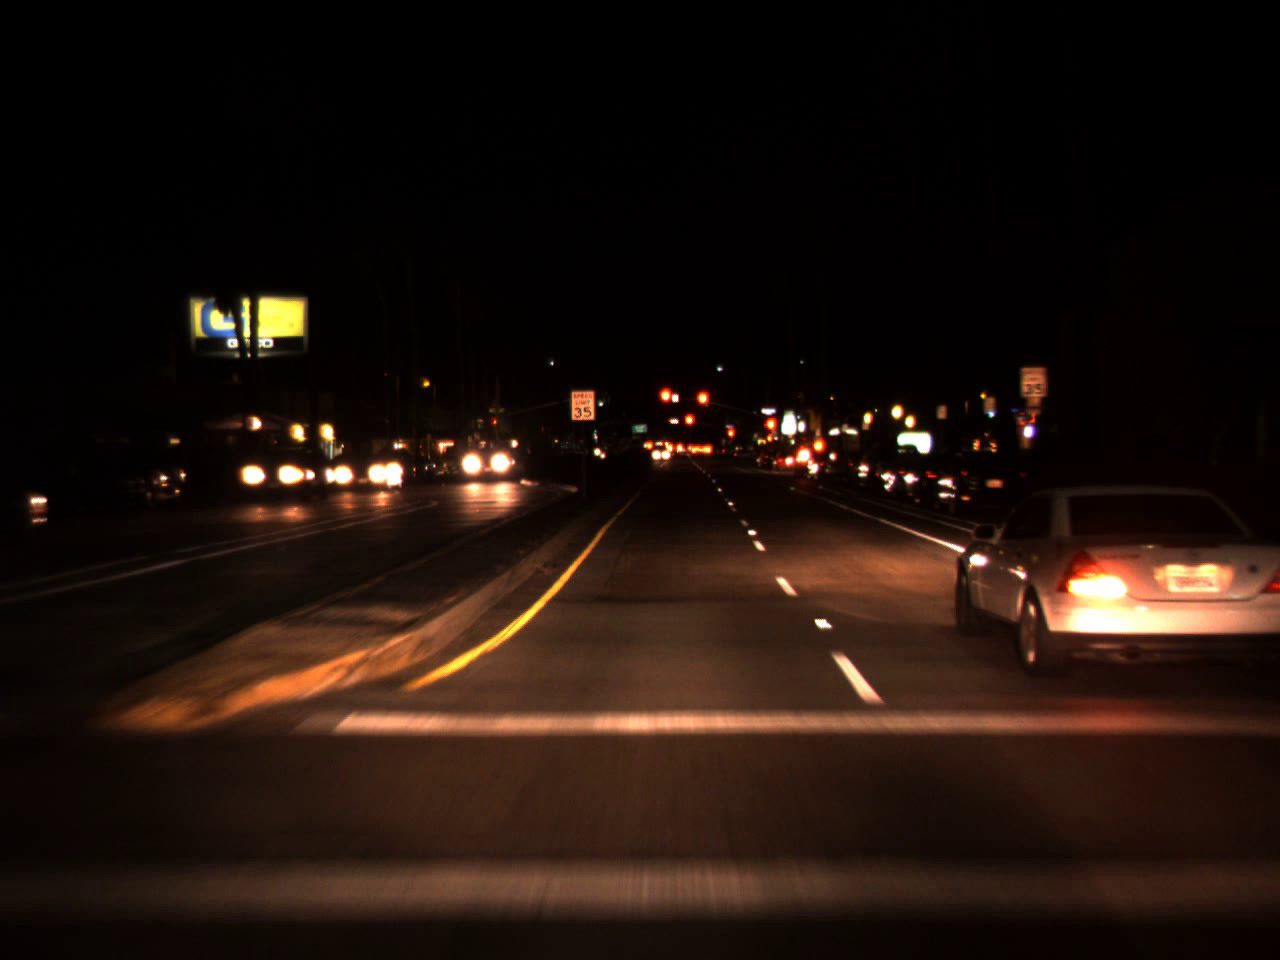stop: (657, 384, 675, 421), (762, 415, 778, 447), (682, 411, 697, 443), (695, 389, 710, 421), (726, 425, 735, 449), (491, 416, 497, 432)
